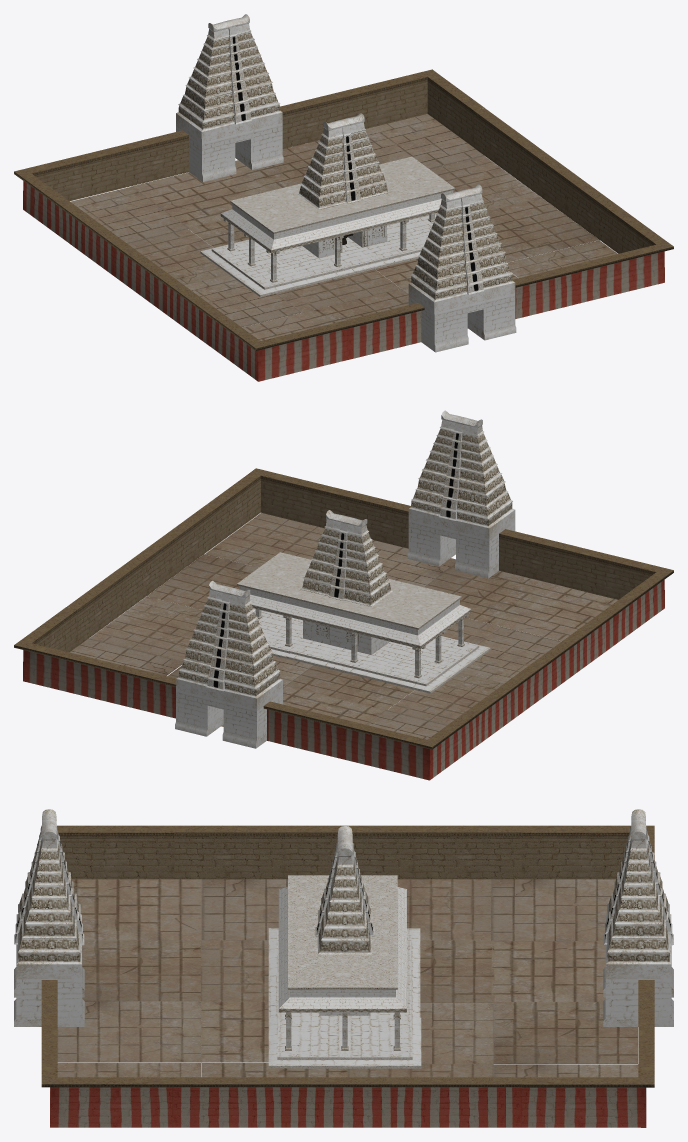
The model's file is temple.glb.
3 views of the same model, one above another, from view 1: azimuth 30°, elevation 25°; view 2: azimuth 150°, elevation 25°; view 3: azimuth 270°, elevation 25° (orthographic). The views are drawn at different scales.
Parts seen in each view (by area): view 1: Temple; view 2: Temple; view 3: Temple.
Part boxes in pixels (bbox=[...]): Temple: bbox=[14, 14, 673, 381]; Temple: bbox=[14, 410, 673, 780]; Temple: bbox=[14, 809, 673, 1127].
Bounding box in the file's own units: 28.8 × 9.43 × 31.05.
Materials: 14 (14 with a texture image).
